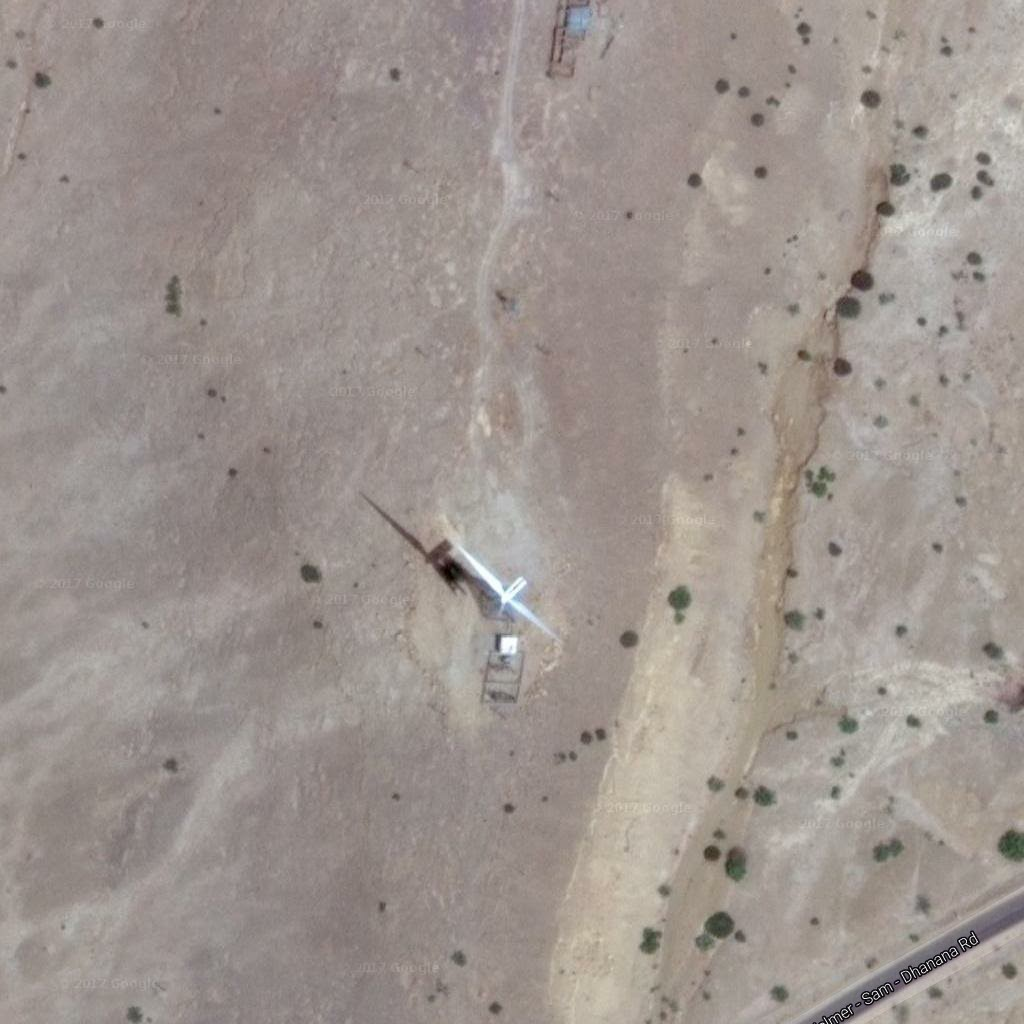Windmill: (344, 480, 480, 602)
